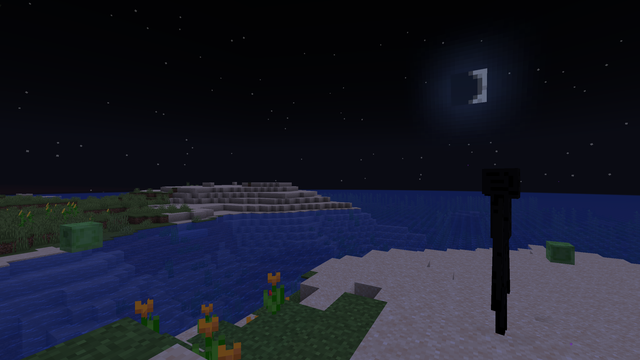endermens: (480, 162, 525, 343)
slimes: (59, 220, 102, 252), (545, 239, 575, 264)
